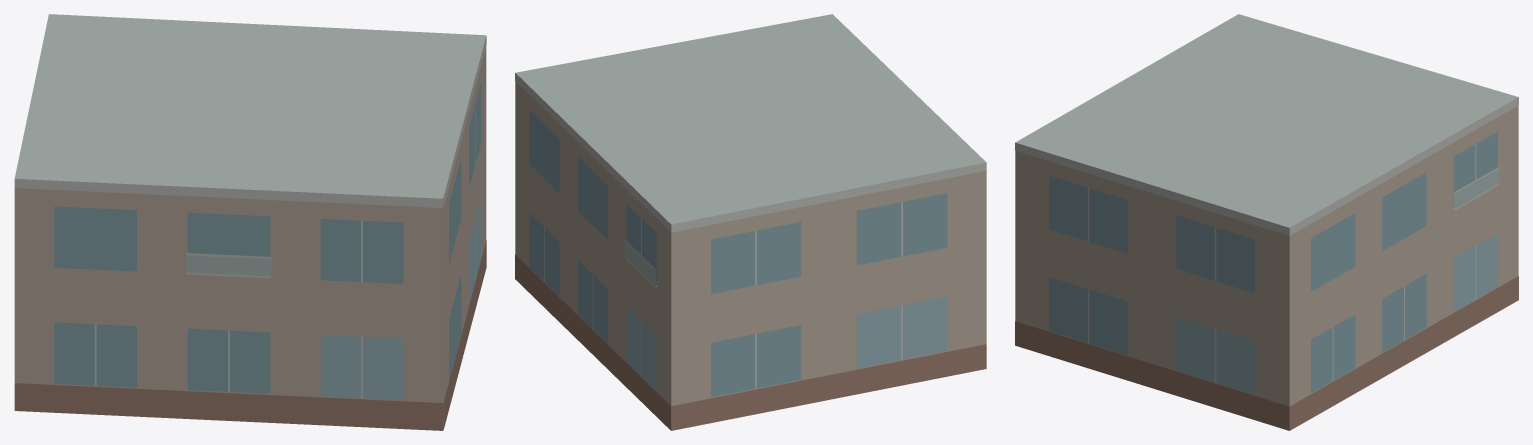
File: survey-upis-32986850.glb
The picture shows the model from 3 angles, left to right: view 1: azimuth 30°, elevation 25°; view 2: azimuth 150°, elevation 25°; view 3: azimuth 270°, elevation 25°; orthographic projection. The views are drawn at different scales.
Visible parts, largest first — view 1: survey-upis-32986850.tmp; view 2: survey-upis-32986850.tmp; view 3: survey-upis-32986850.tmp.
Boxes of the visible parts, x1,y1,x2,y2 form: survey-upis-32986850.tmp: (14,14,486,430); survey-upis-32986850.tmp: (515,14,986,430); survey-upis-32986850.tmp: (1015,14,1518,430).
Bounding box in the file's own units: 13.79 × 6.1 × 13.73.
